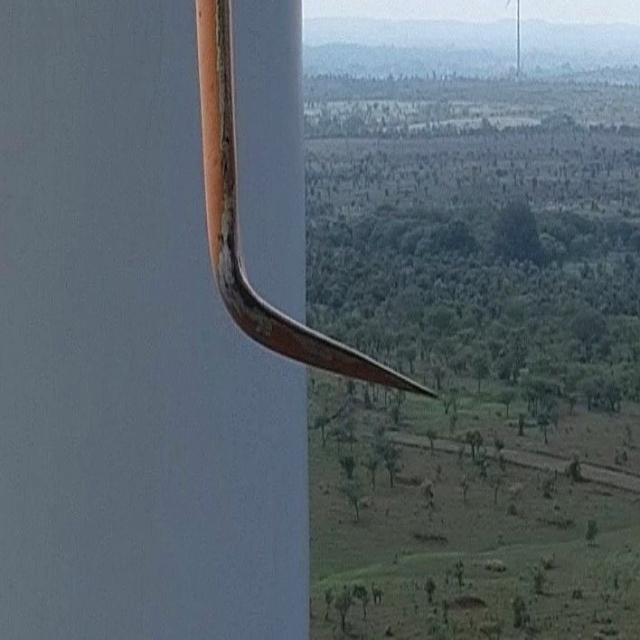EROSION: (223, 230, 372, 368)
